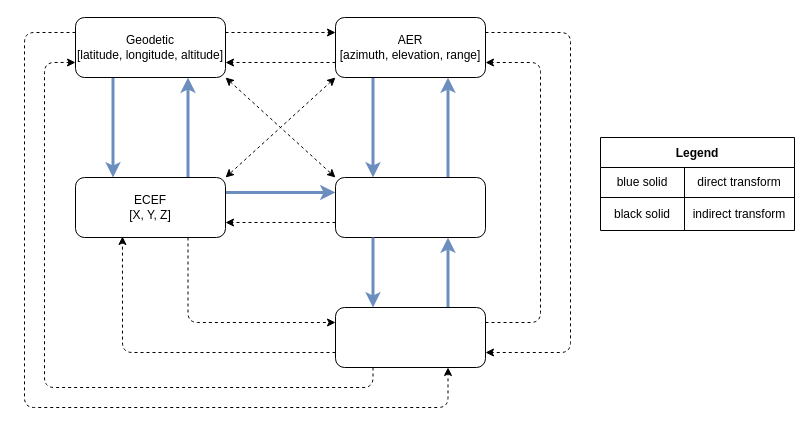
This 812x433 diagram has some shape labels left out. The centre of each missing label's shape, as x and y in pixels:
"ENU [east, north, up]" goes at point (410, 207).
"NED [north, east, down]" goes at point (410, 337).
